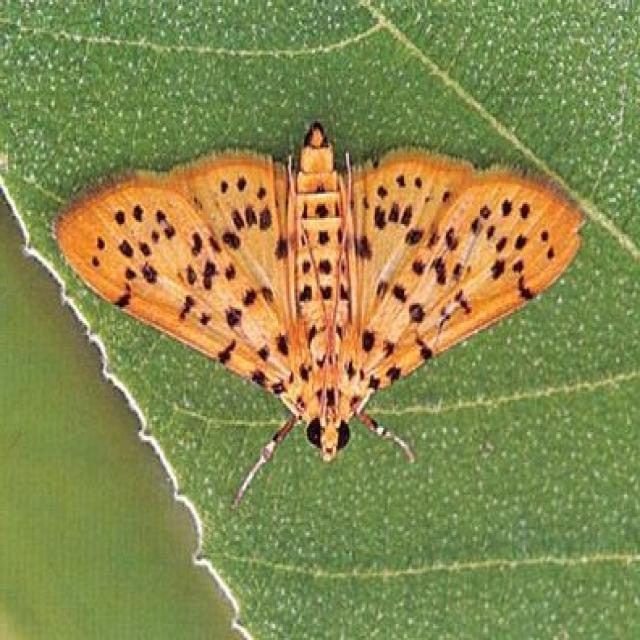peach borer: (51, 141, 589, 468)
